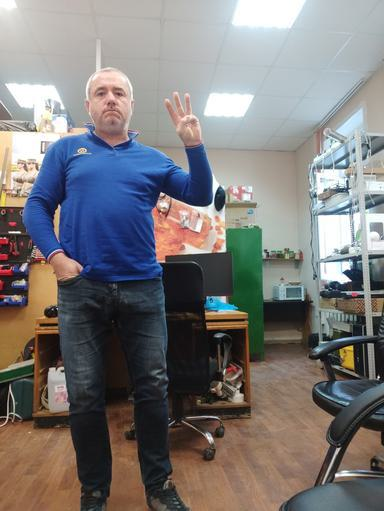three: (164, 90, 204, 148)
